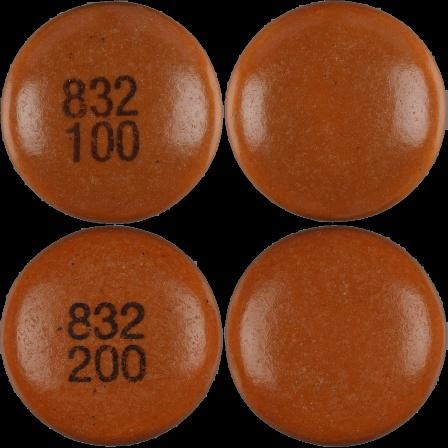51079-516: (0, 0, 224, 224)
